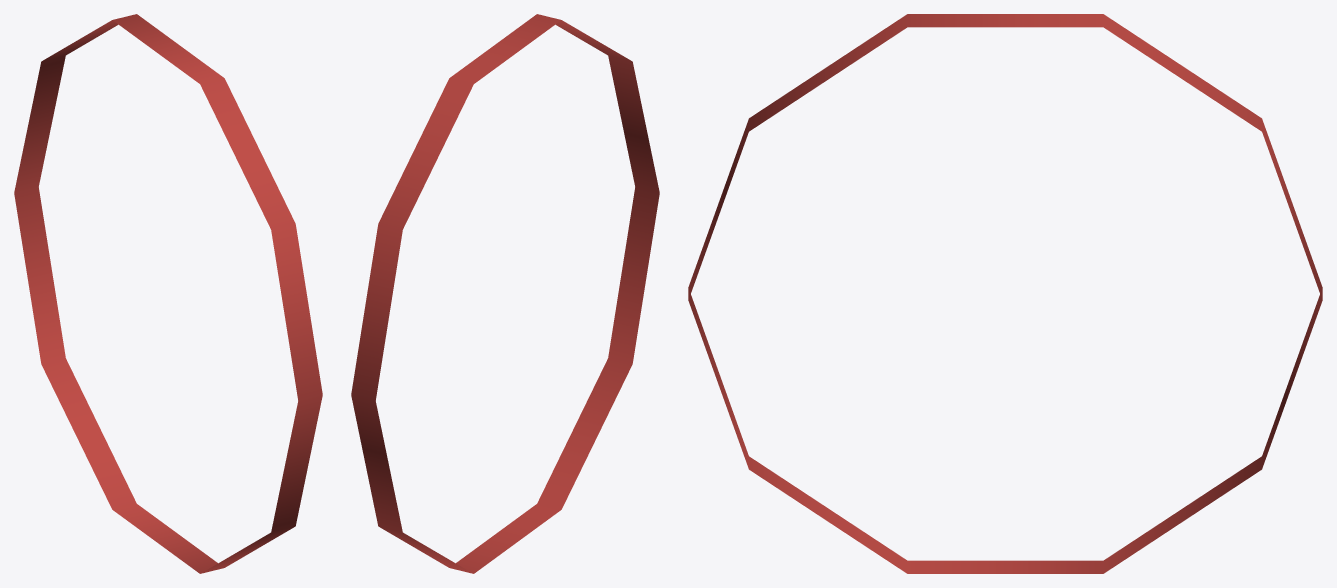
The model's file is round_lod1.glb.
3 views of the same model, side by side, from view 1: azimuth 30°, elevation 25°; view 2: azimuth 150°, elevation 25°; view 3: azimuth 270°, elevation 25° (orthographic). The views are drawn at different scales.
Visible parts, largest first — view 1: round_lod1; view 2: round_lod1; view 3: round_lod1.
Part boxes in pixels (x1,y1,x2,y2): round_lod1: (14,14,322,573); round_lod1: (351,14,659,573); round_lod1: (688,14,1322,573).
Bounding box in the file's own units: 0.1 × 1.9 × 2.
